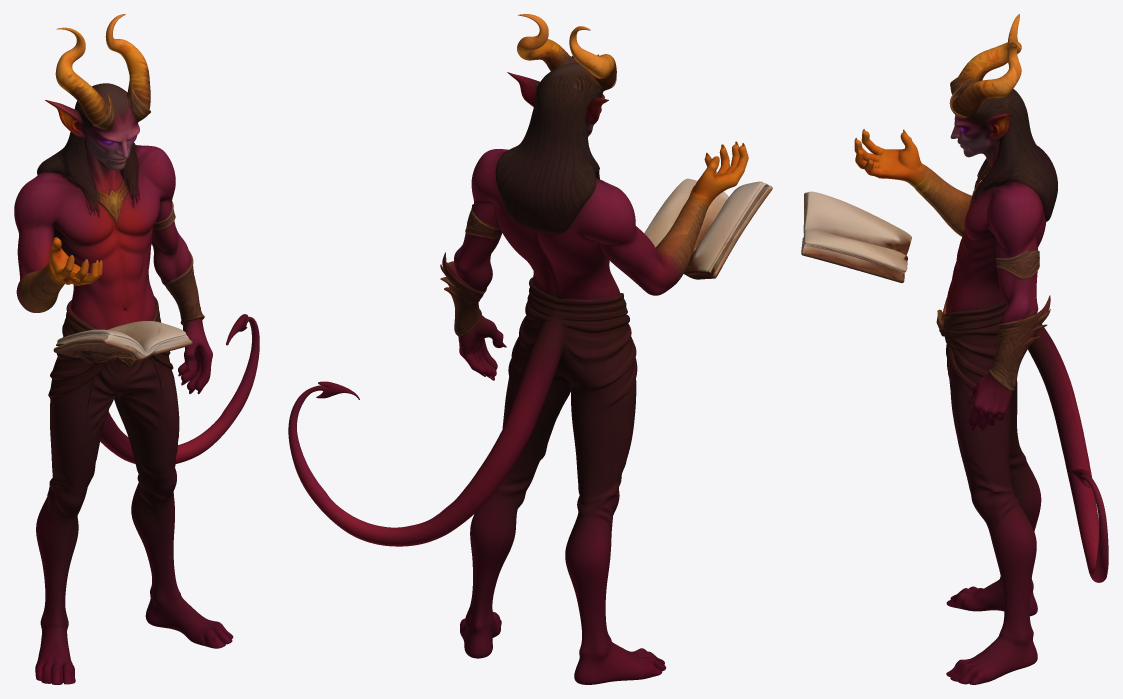
Rendered from tiefling_mage_full_male_01.glb.
3 views of the same model, side by side, from view 1: azimuth 30°, elevation 25°; view 2: azimuth 150°, elevation 25°; view 3: azimuth 270°, elevation 25° (orthographic). The views are drawn at different scales.
Parts seen in each view (by area): view 1: material; view 2: material; view 3: material.
Part boxes in pixels (bbox=[...]): material: bbox=[14, 14, 259, 684]; material: bbox=[288, 14, 772, 684]; material: bbox=[801, 14, 1108, 684].
Bounding box in the file's own units: 0.5851 × 1.1 × 0.5097.
1 material, 1 textured.
